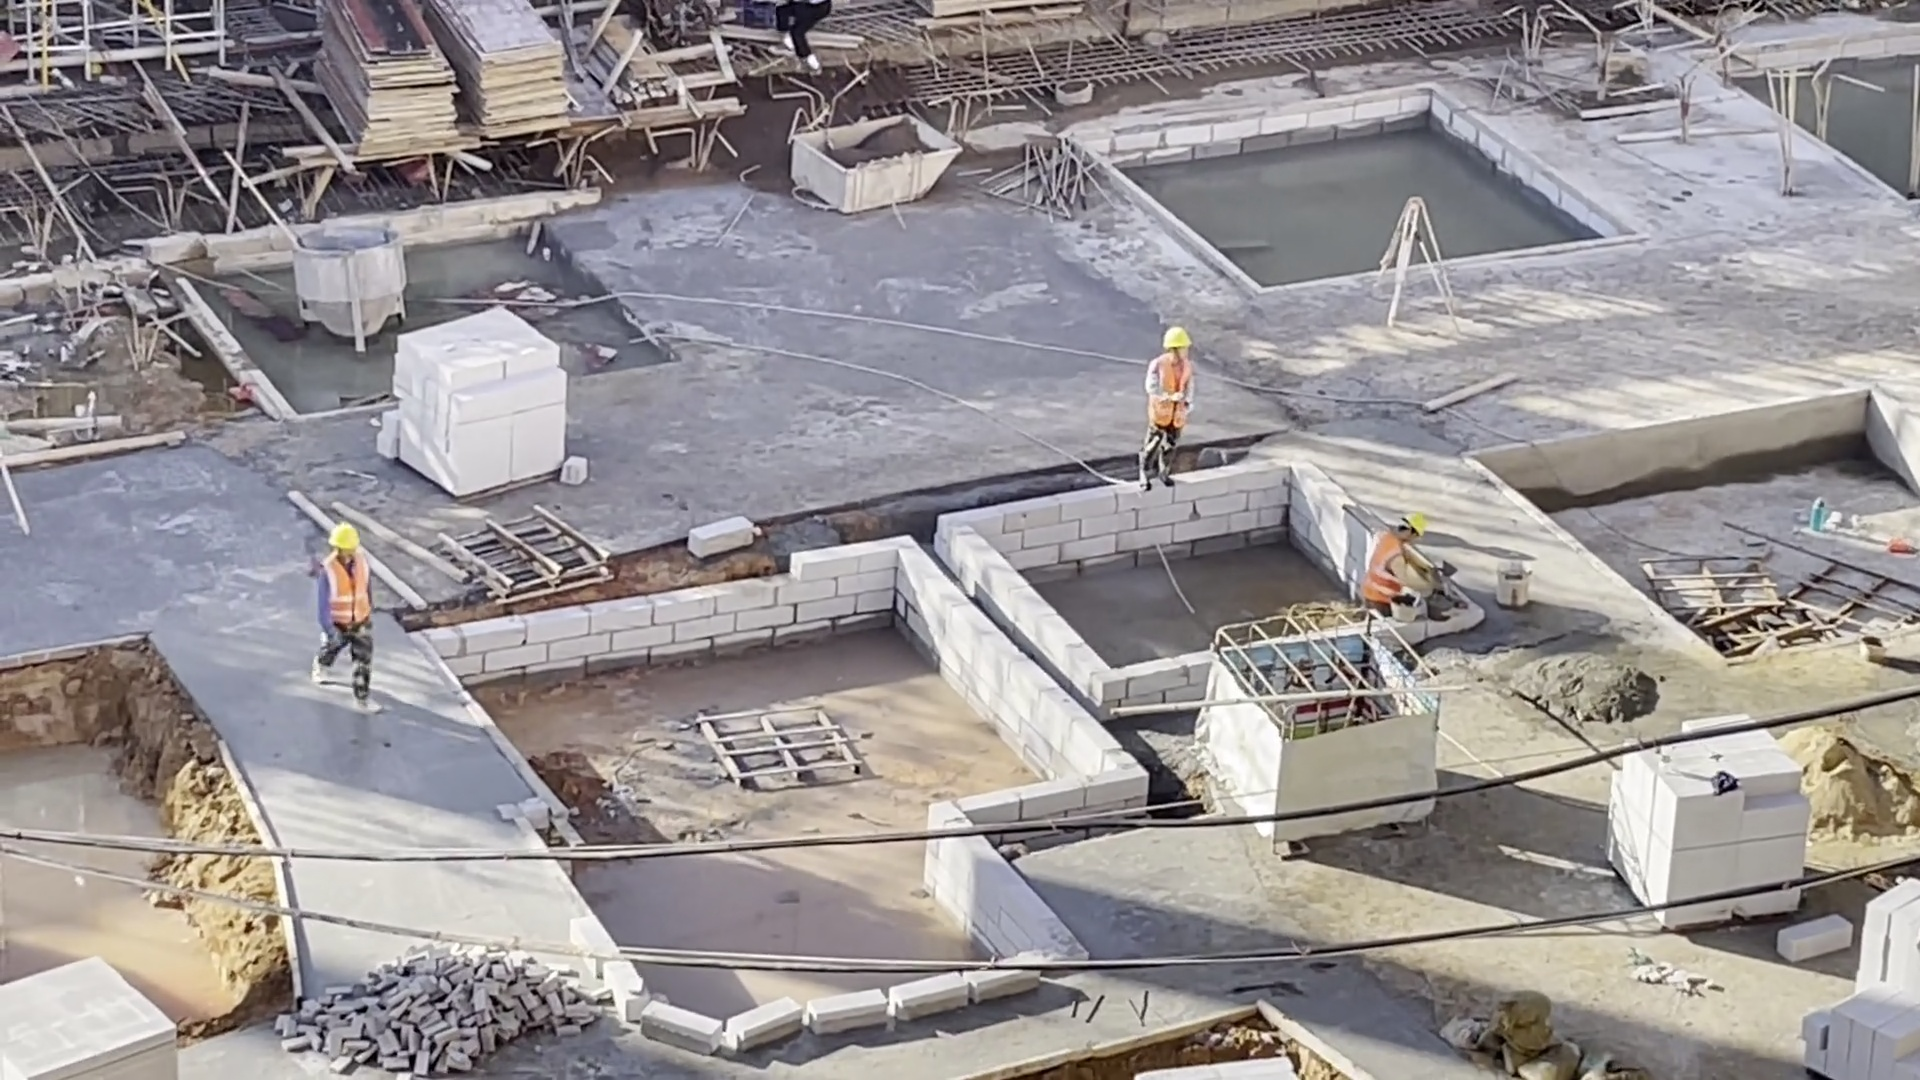helmet: (321, 521, 364, 552), (1159, 325, 1193, 350), (1401, 509, 1427, 539)
person: (307, 522, 386, 719), (1136, 326, 1201, 498), (1356, 504, 1449, 615), (765, 1, 839, 82)
vest: (321, 551, 373, 628), (1148, 353, 1196, 427), (1363, 532, 1404, 600)
